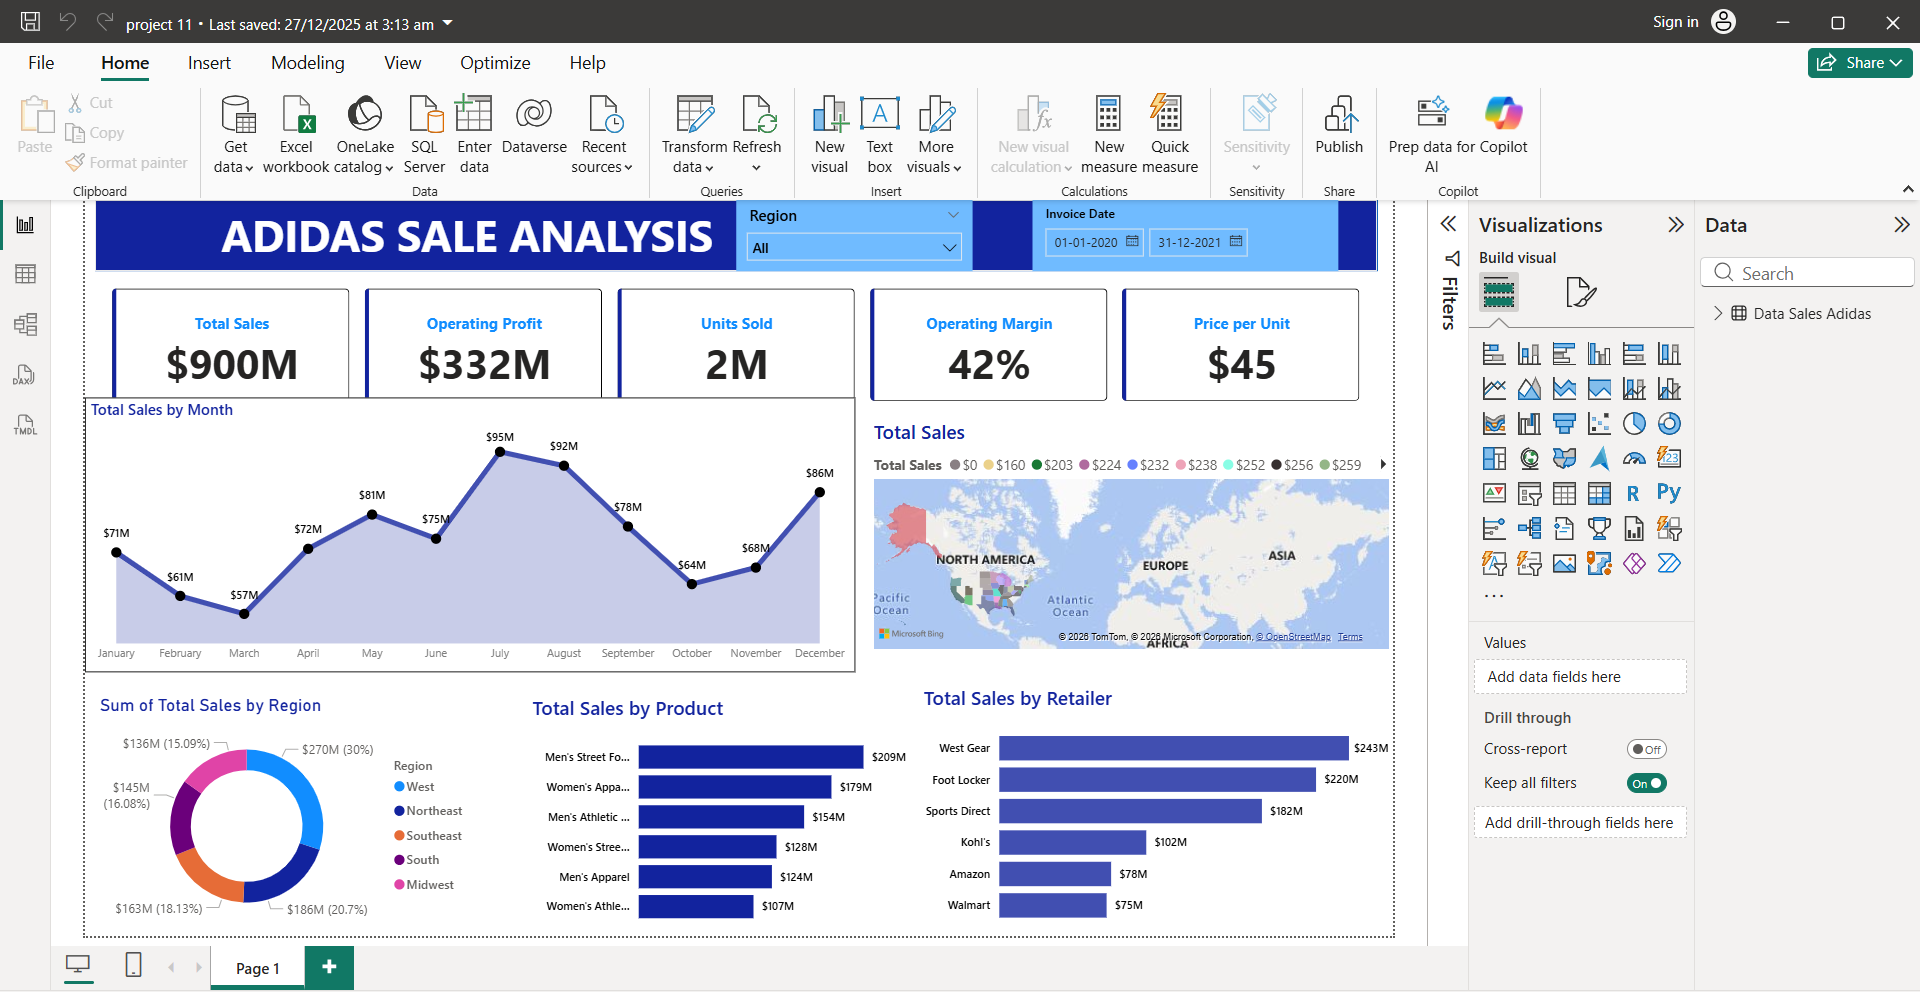

Layout of this report page (visuals, bound fields, positions):
{"tool":"powerbi","page":{"name":"Page 1","canvas":[1280,720],"ordinal":0},"visuals":[{"type":"shape","box":[10,0,1255,70],"z":0},{"type":"textbox","box":[129,0,510.5,70],"z":1000},{"type":"cardVisual","fields":{"Data":["Sum(Data Sales Adidas.Total Sales)","Sum(Data Sales Adidas.Operating Profit)","Sum(Data Sales Adidas.Units Sold)","Avg(Data Sales Adidas.Operating Margin)","Avg(Data Sales Adidas.Price per Unit)"]},"box":[9.6,70,1255.6,144.1],"z":2000},{"type":"areaChart","title":" Total Sales by Month","fields":{"Category":["Data Sales Adidas.Invoice Date.Variation.Date Hierarchy.Month"],"Y":["Sum(Data Sales Adidas.Total Sales)"]},"box":[0,193.2,753.3,269],"z":3000},{"type":"filledMap","title":" Total Sales","fields":{"Category":["Data Sales Adidas.State"],"Series":["Data Sales Adidas.Total Sales"]},"box":[766.7,214,513.6,229.9],"z":4000},{"type":"donutChart","fields":{"Category":["Data Sales Adidas.Region"],"Y":["Sum(Data Sales Adidas.Total Sales)"]},"box":[9.8,484.2,374.2,236],"z":5000},{"type":"barChart","title":" Total Sales by Product","fields":{"Category":["Data Sales Adidas.Product"],"Y":["Sum(Data Sales Adidas.Total Sales)"]},"box":[432.9,484.2,382.7,236],"z":6000},{"type":"barChart","title":"Total Sales by Retailer","fields":{"Category":["Data Sales Adidas.Retailer"],"Y":["Sum(Data Sales Adidas.Total Sales)"]},"box":[815.6,474.5,464.7,245.8],"z":7000},{"type":"slicer","fields":{"Values":["Data Sales Adidas.Region"]},"box":[637.1,0,231.1,69.7],"z":8000},{"type":"slicer","fields":{"Values":["Data Sales Adidas.Invoice Date"]},"box":[926.9,0,299.6,69.7],"z":9000}]}

Visuals, with their boxes on the page's 1280x720 design canvas (x1, y1, x2, y2). These are canvas units, not pixel positions in the 1920x992 screenshot, which may show the page scaled, cropped or inside an application window:
shape: pyautogui.locateOnScreen(10, 0, 1265, 70)
textbox: pyautogui.locateOnScreen(129, 0, 640, 70)
cardVisual - Sum(Data Sales Adidas.Total Sales) x Sum(Data Sales Adidas.Operating Profit): pyautogui.locateOnScreen(10, 70, 1265, 214)
" Total Sales by Month" areaChart: pyautogui.locateOnScreen(0, 193, 753, 462)
" Total Sales" filledMap: pyautogui.locateOnScreen(767, 214, 1280, 444)
donutChart - Data Sales Adidas.Region x Sum(Data Sales Adidas.Total Sales): pyautogui.locateOnScreen(10, 484, 384, 720)
" Total Sales by Product" barChart: pyautogui.locateOnScreen(433, 484, 816, 720)
"Total Sales by Retailer" barChart: pyautogui.locateOnScreen(816, 474, 1280, 720)
slicer - Data Sales Adidas.Region: pyautogui.locateOnScreen(637, 0, 868, 70)
slicer - Data Sales Adidas.Invoice Date: pyautogui.locateOnScreen(927, 0, 1226, 70)
